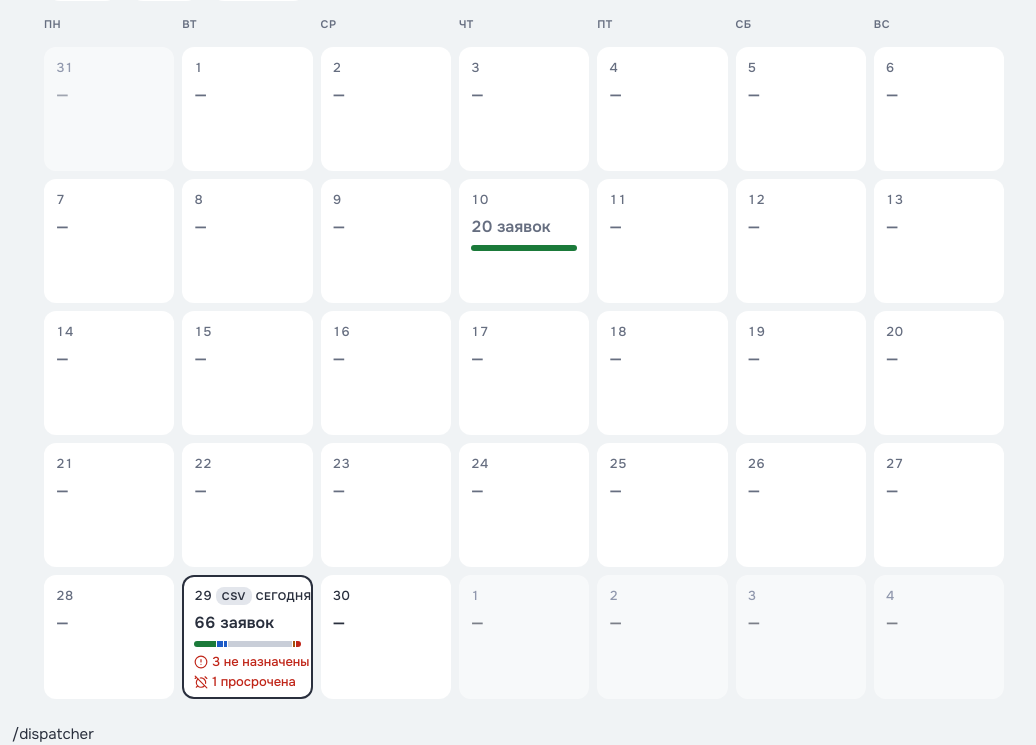
Test case: DS-01 Календарь заявок › подсказка по наведению: строка на каждый статус и флаг «Просрочена»
(page scrolled)
Hover over the element showing "29 CSV СЕГОДНЯ 66 заявок 3 не назначены 1 просрочена" at (247, 637), box [182,575,313,699]
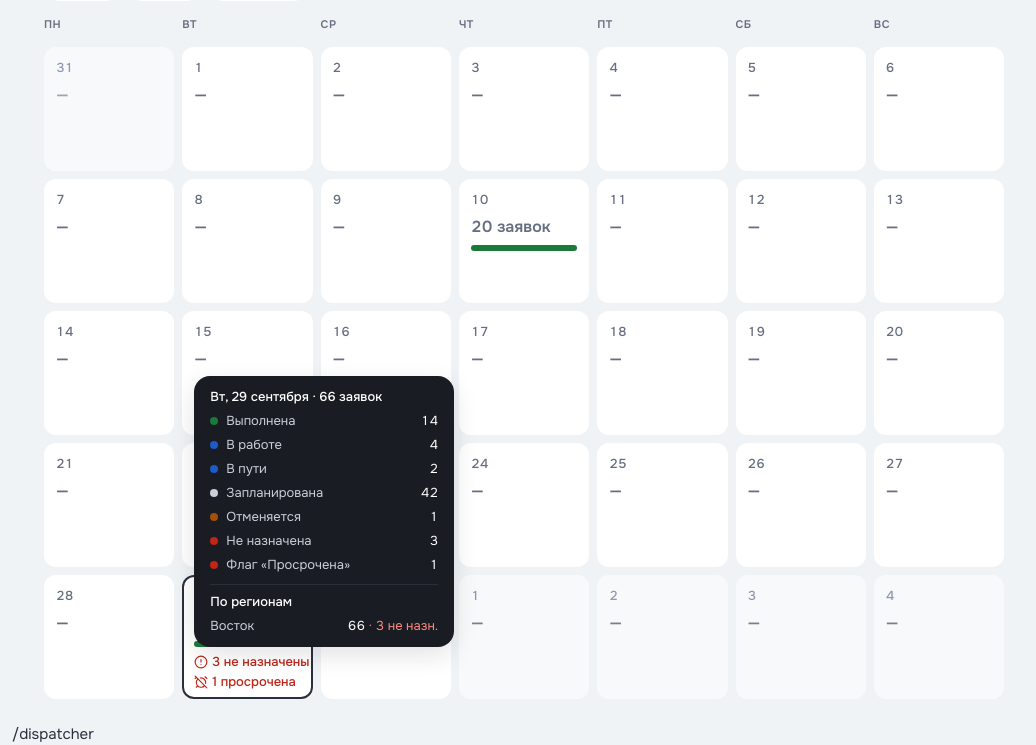
Check: the text "Вт, 29 сентября · 66 заявок" is shown, box [210,388,382,405]
Check: the text "В пути" is shown, box [226,460,267,477]
Check: the text "В работе" is shown, box [226,436,282,453]
Move the pointer off the element that starts with "CSV", box [182,575,313,699]
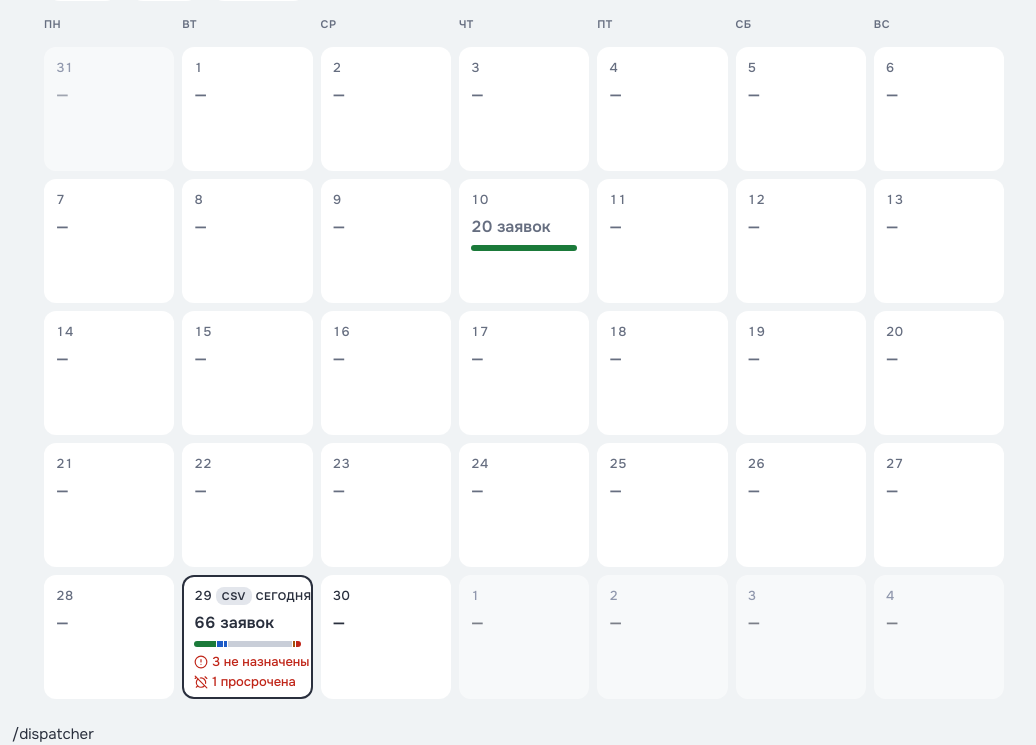
Check: the tooltip is gone
